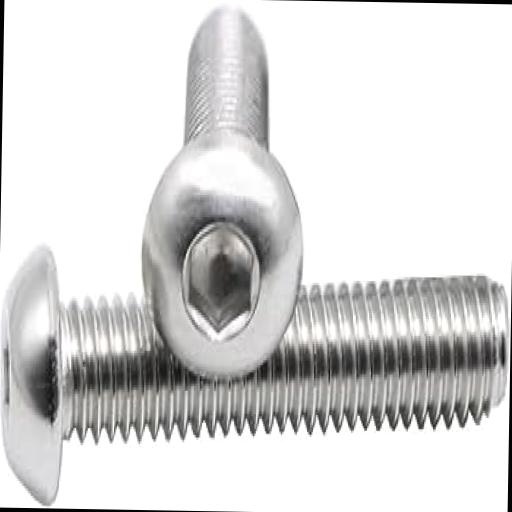Hex-Allen: (140, 134, 305, 381)
